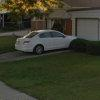Car: (9, 20, 75, 54)
